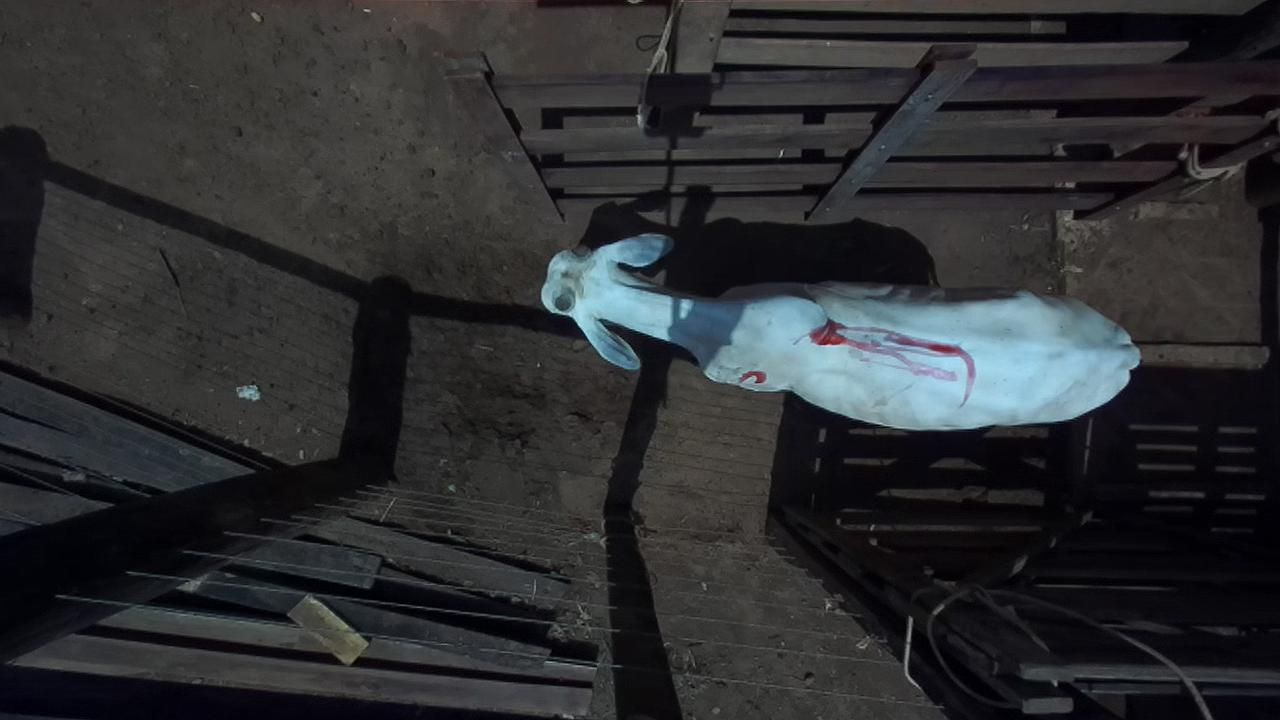cattle: (534, 209, 1147, 438)
